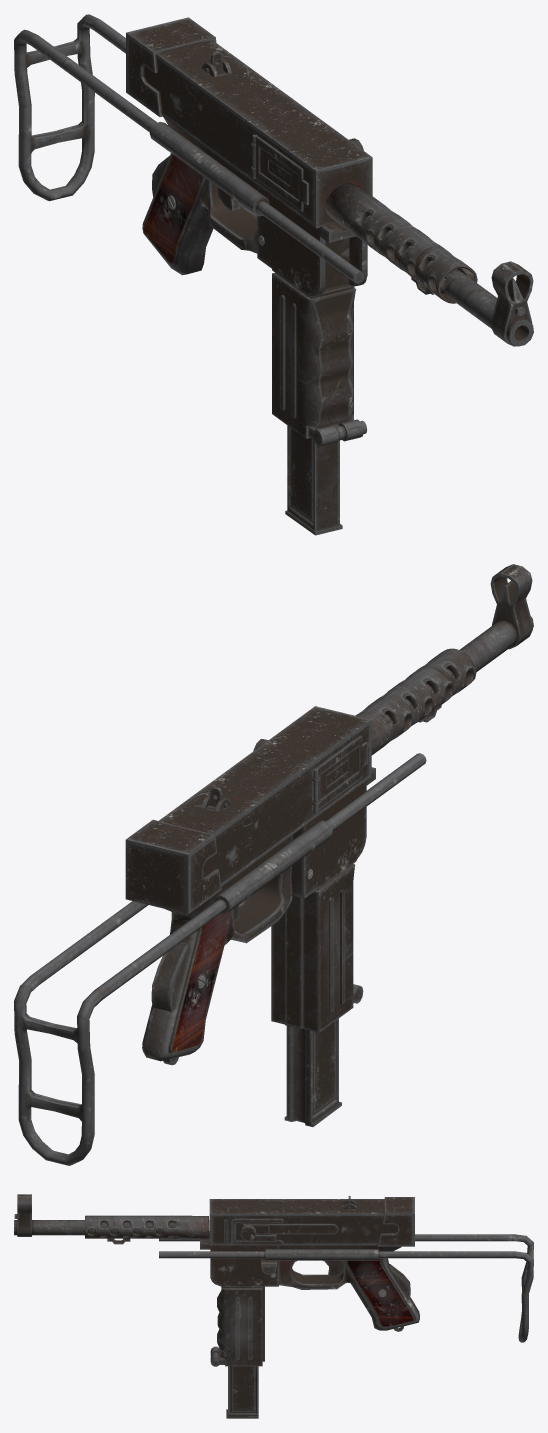
3 renders of one model, top to bottom at view 1: azimuth 30°, elevation 25°; view 2: azimuth 150°, elevation 25°; view 3: azimuth 270°, elevation 25°, orthographic. The views are drawn at different scales.
Parts seen in each view (by area): view 1: MAT-49; view 2: MAT-49; view 3: MAT-49.
Boxes of the visible parts, x1=… form: MAT-49: x1=14, y1=14, x2=533, y2=535; MAT-49: x1=14, y1=564, x2=533, y2=1165; MAT-49: x1=14, y1=1194, x2=533, y2=1418.
Bounding box in the file's own units: 0.0829 × 0.3533 × 0.7595.
1 material, 1 textured.
